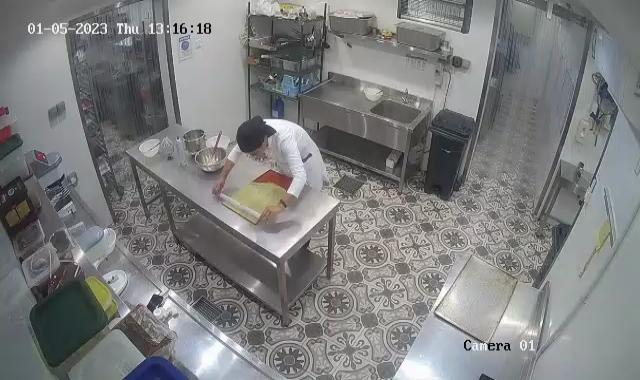no_hairnet: (237, 113, 276, 156)
